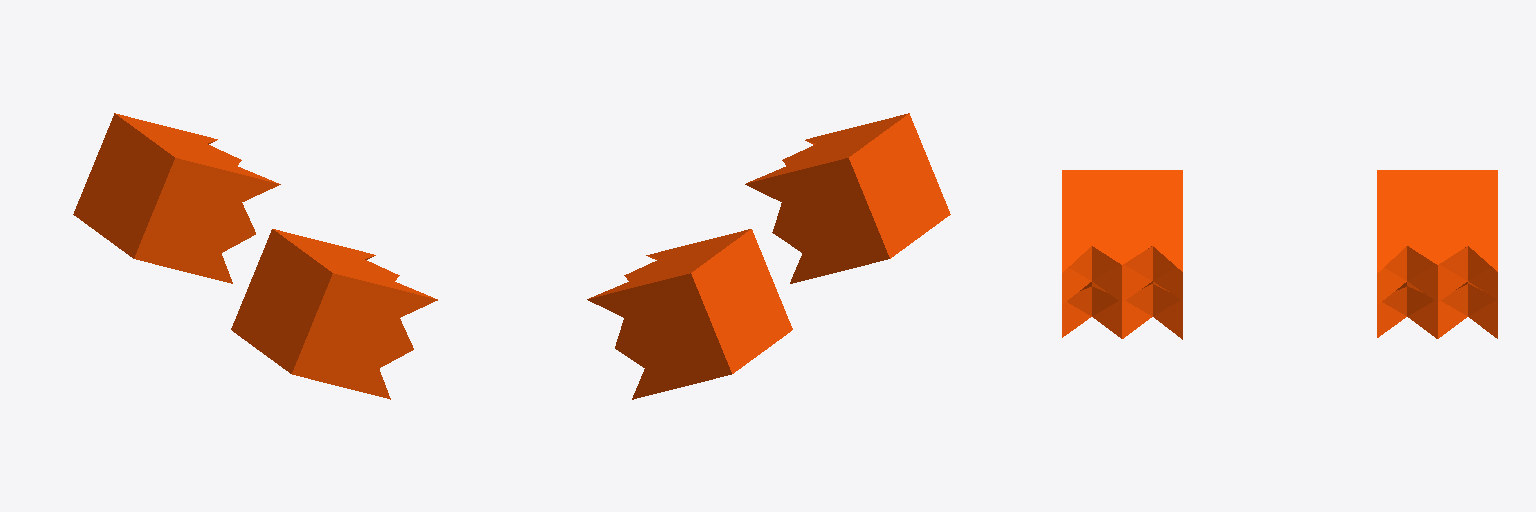
3 renders of one model, left to right at view 1: azimuth 30°, elevation 25°; view 2: azimuth 150°, elevation 25°; view 3: azimuth 270°, elevation 25°, orthographic.
Parts seen in each view (by area): view 1: Jet; view 2: Jet; view 3: Jet.
Boxes of the visible parts, x1=… form: Jet: x1=73, y1=113, x2=437, y2=399; Jet: x1=587, y1=113, x2=950, y2=399; Jet: x1=1062, y1=170, x2=1497, y2=339.
Size of the model in its own units: 0.2633 by 0.2415 by 0.6763.
1 materials, 1 textured.